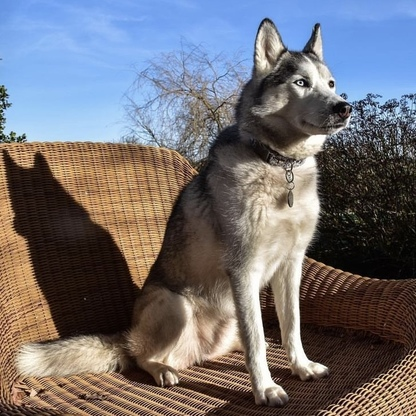husky: (11, 13, 356, 410)
